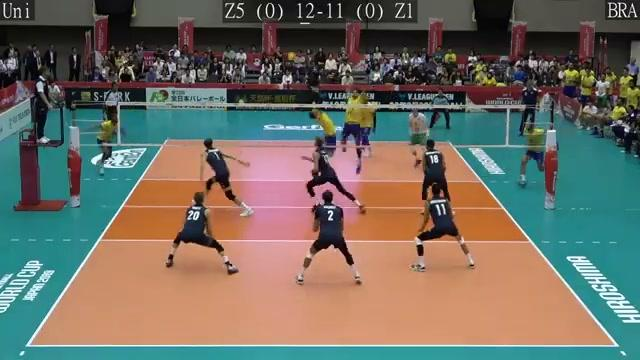ball: (285, 52, 295, 61)
